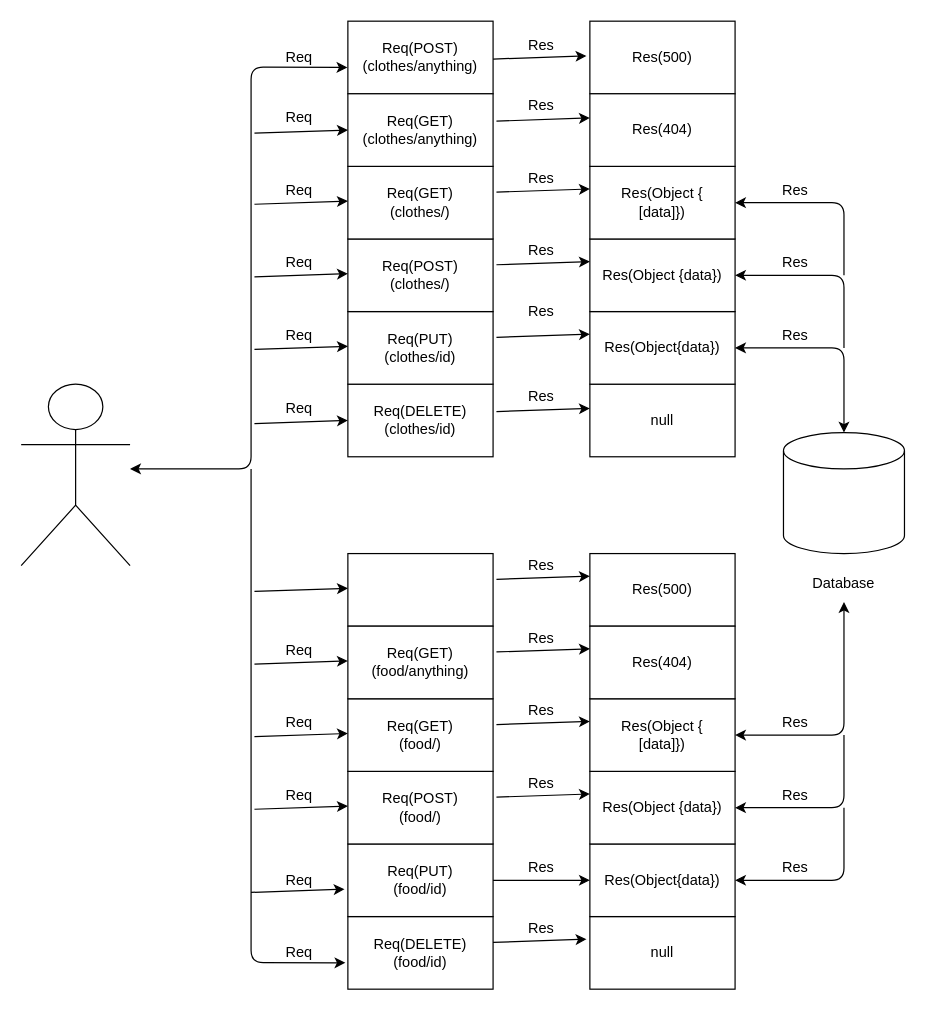
Image size: 926x1010. Some labels were removed from this diagram. Here are the shapes that lost their labels. From the top down, the box of each, then its label:
(20, 383, 130, 566): Actor
(347, 552, 493, 626): Req(POST) (food/anything)
